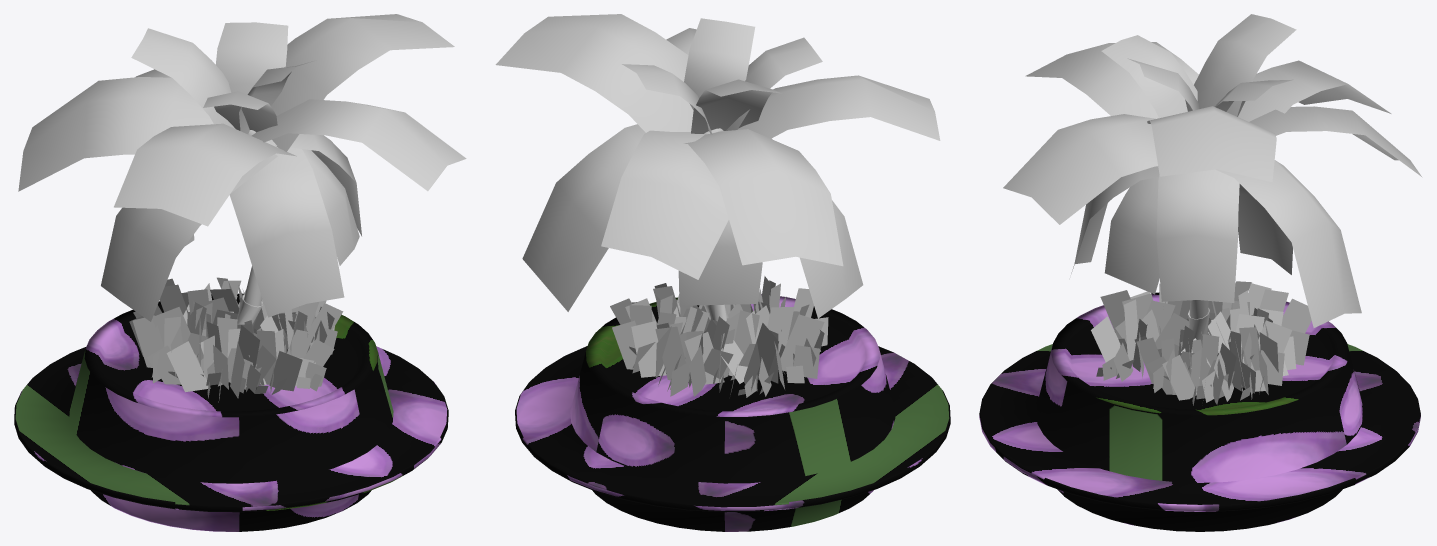
3 renders of one model, left to right at view 1: azimuth 30°, elevation 25°; view 2: azimuth 150°, elevation 25°; view 3: azimuth 270°, elevation 25°, orthographic.
Visible parts, largest first — view 1: object_2, object_0, object_4, object_3; view 2: object_2, object_0, object_4; view 3: object_2, object_0, object_4, object_3.
Boxes of the visible parts, x1,y1,x2,y2 form: object_2: [18, 14, 466, 321]; object_0: [14, 293, 448, 531]; object_4: [129, 277, 343, 402]; object_3: [237, 266, 262, 327]; object_2: [495, 14, 940, 318]; object_0: [515, 294, 950, 531]; object_4: [610, 276, 828, 397]; object_2: [1003, 14, 1422, 327]; object_0: [979, 292, 1420, 531]; object_4: [1091, 281, 1311, 405]; object_3: [1187, 300, 1209, 347].
Bounding box in the file's own units: 993 × 1007 × 958.
